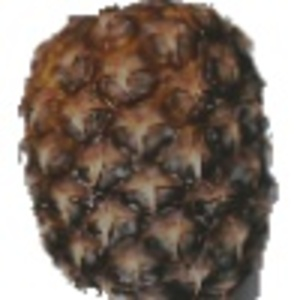abacaxi: (14, 3, 278, 296)
